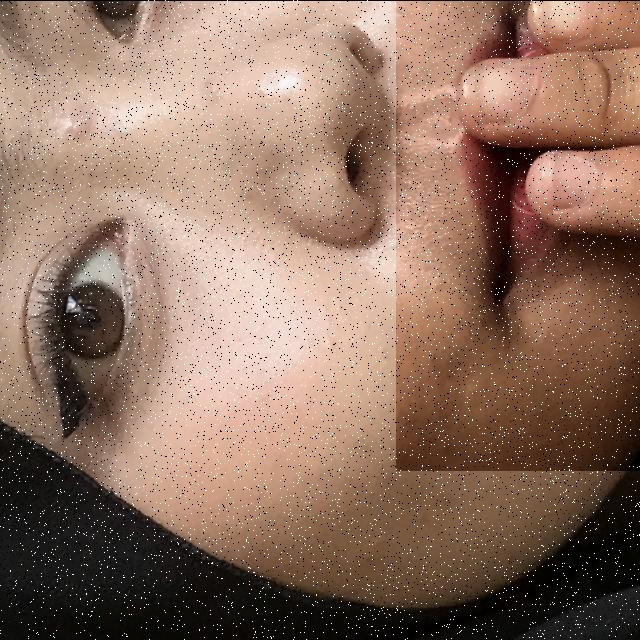ganteng: (396, 0, 640, 470)
